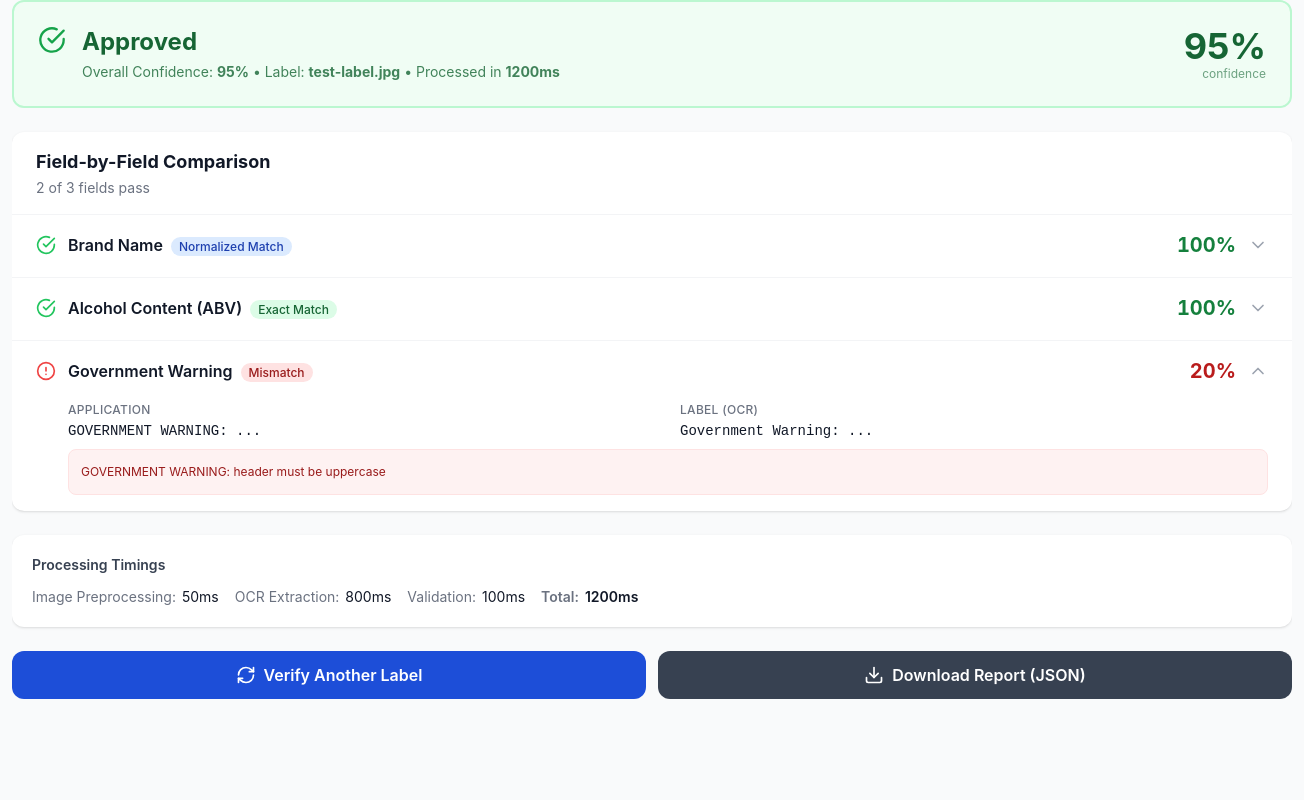
Test: VerificationResults › collapses an expanded field on click
Click the button with aria-label "toggle details for government warning" at (150, 371), box [36,357,1268,385]
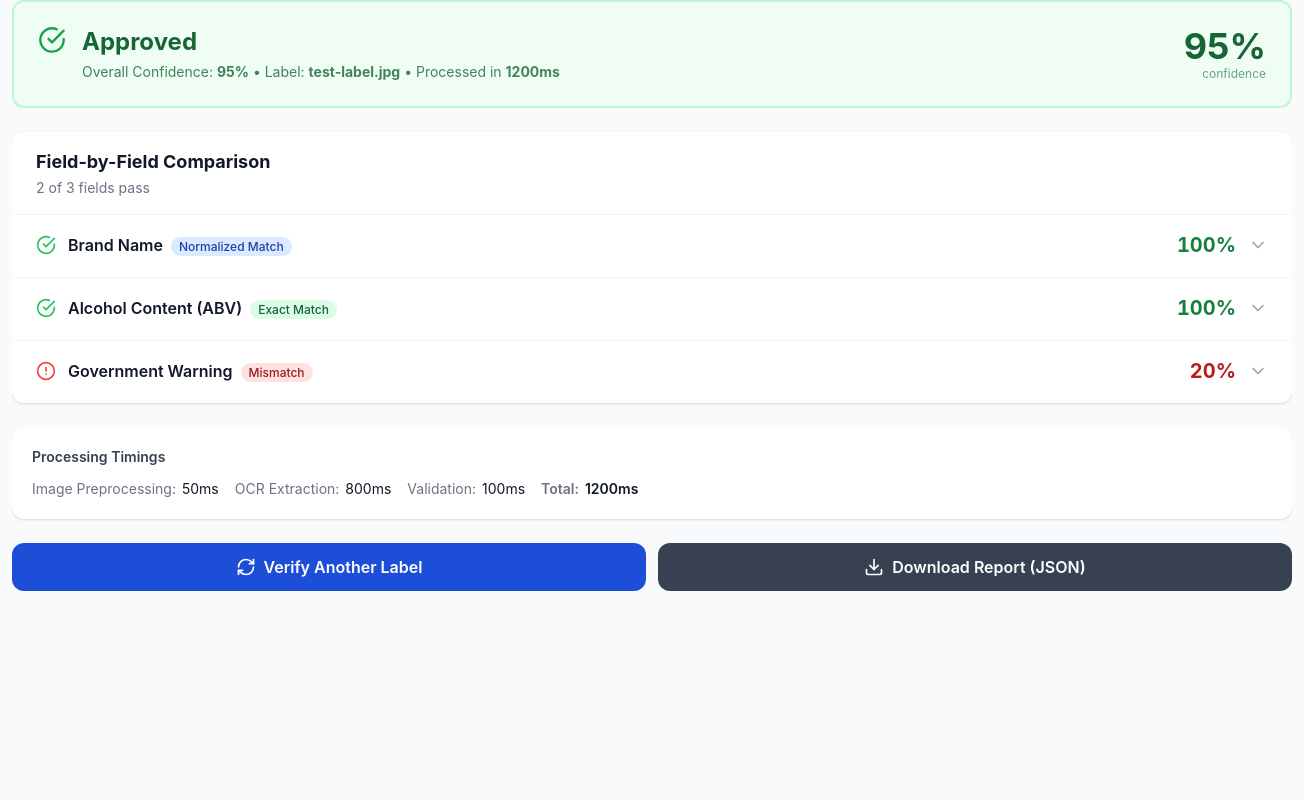
Result: the text "GOVERNMENT WARNING: header must be uppercase" is gone
